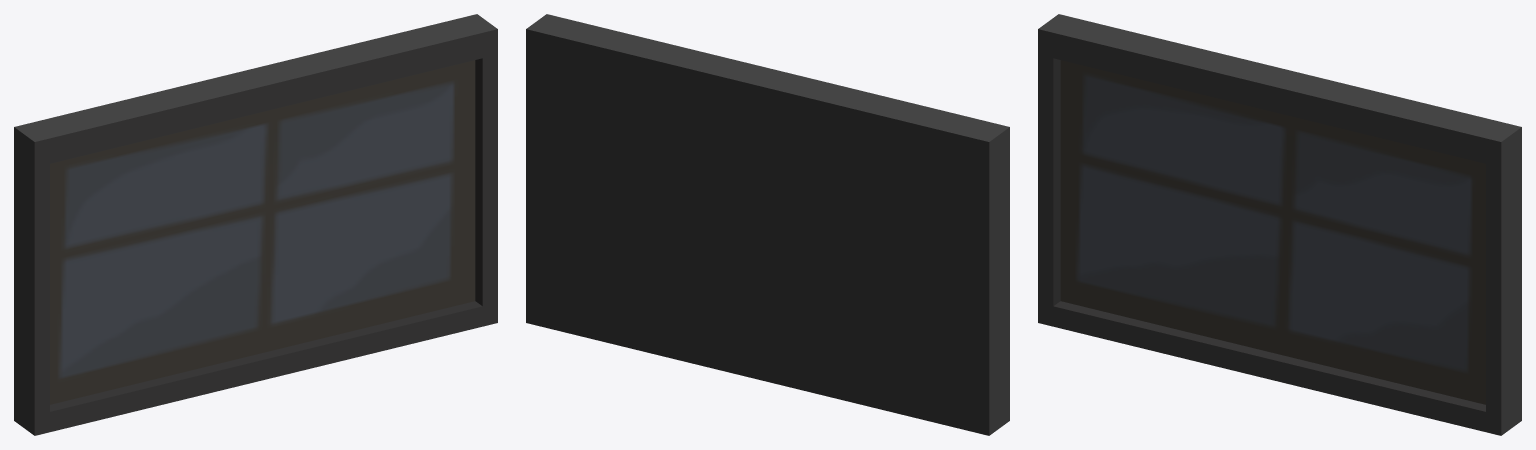
File: Window_D14.fbx
3 views of the same model, side by side, from view 1: azimuth 30°, elevation 25°; view 2: azimuth 150°, elevation 25°; view 3: azimuth 330°, elevation 25° (orthographic).
Parts seen in each view (by area): view 1: Window_D14; view 2: Window_D14; view 3: Window_D14.
Part boxes in pixels (x1,y1,x2,y2): Window_D14: [14, 14, 497, 435]; Window_D14: [526, 14, 1009, 435]; Window_D14: [1038, 14, 1521, 435].
Bounding box in the file's own units: 375 × 227 × 28.95.
